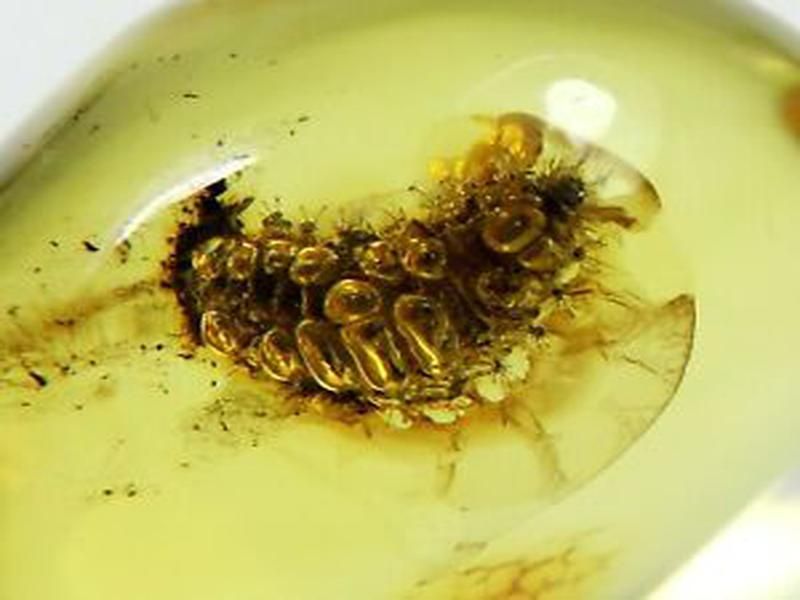Spiny_beetle: (133, 134, 636, 437)
